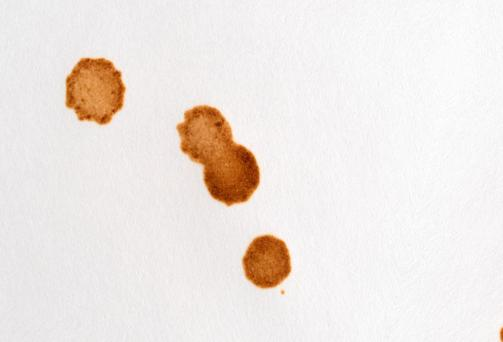stain: (171, 105, 266, 208), (62, 50, 129, 130), (238, 233, 298, 293)
